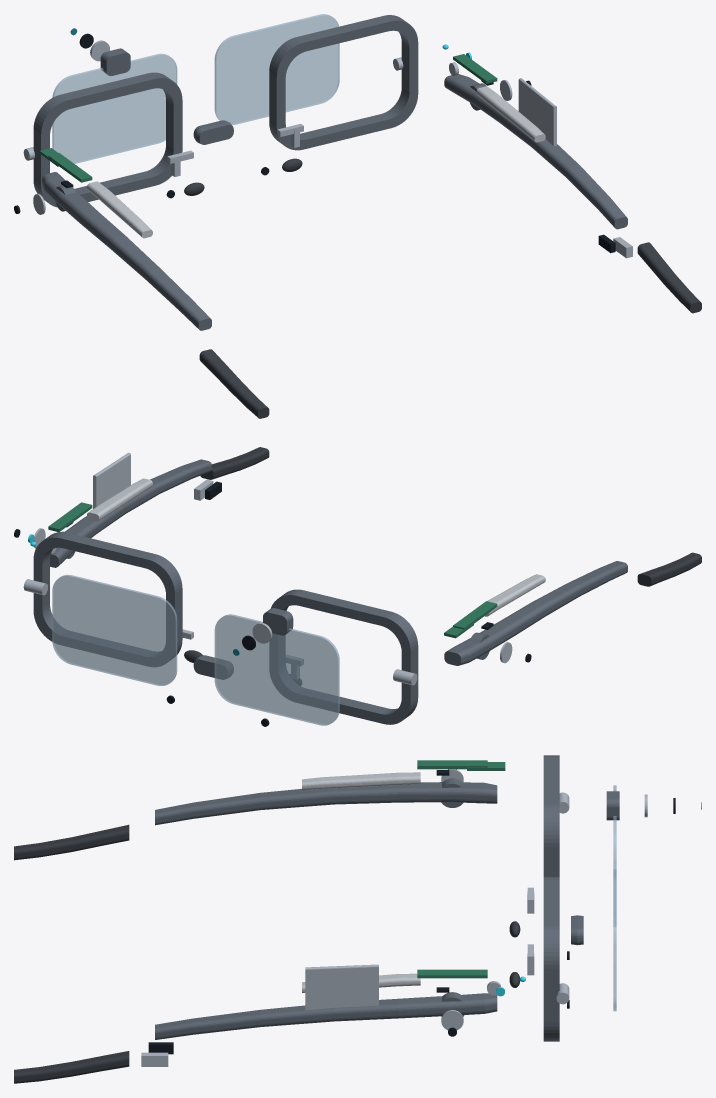
File: SIGNLINK_Smart_Exploded.glb
3 renders of one model, top to bottom at view 1: azimuth 30°, elevation 25°; view 2: azimuth 150°, elevation 25°; view 3: azimuth 270°, elevation 25°, orthographic. The views are drawn at different scales.
Visible parts, largest first — view 1: 06 | Right Optical Lens, 02 | Left Optical Lens, 05 | Right Front Frame Rim, 01 | Left Front Frame Rim, 10 | Left Temple Arm, 16 | Right Temple Arm, 40 | Right Temple Touch Strip, 11 | Left Temple Tip / Earpiece, 17 | Right Temple Tip / Earpiece, 18 | Right Rechargeable Battery Cell, 12 | Left Rechargeable Battery Cell, 09 | Central Nose Bridge (+1 smaller); view 2: 06 | Right Optical Lens, 02 | Left Optical Lens, 05 | Right Front Frame Rim, 01 | Left Front Frame Rim, 10 | Left Temple Arm, 16 | Right Temple Arm, 40 | Right Temple Touch Strip, 11 | Left Temple Tip / Earpiece, 17 | Right Temple Tip / Earpiece, 18 | Right Rechargeable Battery Cell, 12 | Left Rechargeable Battery Cell, 09 | Central Nose Bridge (+3 smaller); view 3: 10 | Left Temple Arm, 16 | Right Temple Arm, 40 | Right Temple Touch Strip, 05 | Right Front Frame Rim, 01 | Left Front Frame Rim, 11 | Left Temple Tip / Earpiece, 17 | Right Temple Tip / Earpiece, 12 | Left Rechargeable Battery Cell, 19 | Right Control PCB, 13 | Left Control PCB, 06 | Right Optical Lens, 18 | Right Rechargeable Battery Cell.
Part boxes in pixels (x1,y1,x2,y2): 06 | Right Optical Lens: (214, 14, 339, 125); 02 | Left Optical Lens: (52, 53, 177, 163); 05 | Right Front Frame Rim: (269, 15, 418, 150); 01 | Left Front Frame Rim: (33, 72, 182, 207); 10 | Left Temple Arm: (42, 172, 211, 330); 16 | Right Temple Arm: (444, 74, 627, 229); 40 | Right Temple Touch Strip: (518, 78, 556, 146); 11 | Left Temple Tip / Earpiece: (199, 349, 269, 418); 17 | Right Temple Tip / Earpiece: (637, 242, 701, 313); 18 | Right Rechargeable Battery Cell: (476, 86, 545, 142); 12 | Left Rechargeable Battery Cell: (87, 181, 152, 238); 09 | Central Nose Bridge: (193, 120, 233, 144); 06 | Right Optical Lens: (52, 574, 177, 685); 02 | Left Optical Lens: (214, 614, 339, 725); 05 | Right Front Frame Rim: (33, 532, 182, 666); 01 | Left Front Frame Rim: (269, 589, 418, 724); 10 | Left Temple Arm: (444, 561, 627, 665); 16 | Right Temple Arm: (50, 459, 211, 567); 40 | Right Temple Touch Strip: (93, 452, 130, 508); 11 | Left Temple Tip / Earpiece: (637, 552, 701, 586); 17 | Right Temple Tip / Earpiece: (200, 447, 269, 479); 18 | Right Rechargeable Battery Cell: (87, 478, 152, 521); 12 | Left Rechargeable Battery Cell: (485, 574, 545, 616); 09 | Central Nose Bridge: (193, 655, 233, 679); 10 | Left Temple Arm: (155, 782, 497, 825); 16 | Right Temple Arm: (155, 993, 497, 1039); 40 | Right Temple Touch Strip: (305, 964, 378, 1010); 05 | Right Front Frame Rim: (543, 877, 559, 1041); 01 | Left Front Frame Rim: (543, 755, 559, 876); 11 | Left Temple Tip / Earpiece: (14, 824, 129, 860); 17 | Right Temple Tip / Earpiece: (14, 1051, 129, 1083); 12 | Left Rechargeable Battery Cell: (302, 772, 420, 789); 19 | Right Control PCB: (417, 969, 487, 978); 13 | Left Control PCB: (417, 760, 487, 769); 06 | Right Optical Lens: (613, 869, 616, 1011); 18 | Right Rechargeable Battery Cell: (302, 973, 420, 992).
Bounding box in the file's own units: 0.196 × 0.0505 × 0.2149.
